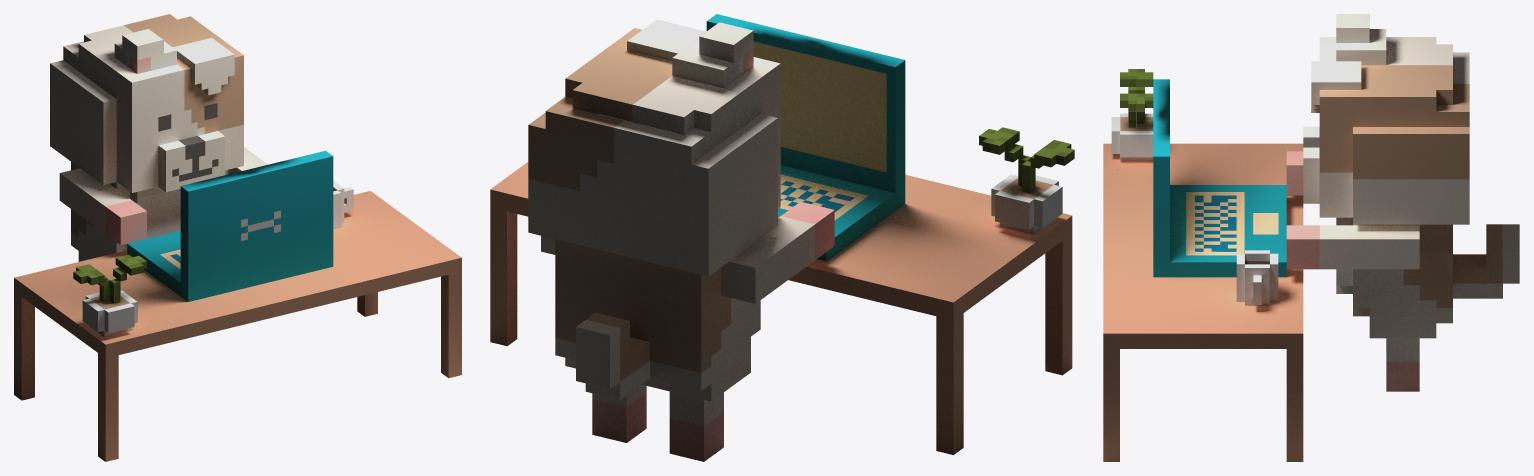
Rendered from dog.glb.
3 views of the same model, side by side, from view 1: azimuth 30°, elevation 25°; view 2: azimuth 150°, elevation 25°; view 3: azimuth 270°, elevation 25° (orthographic). The views are drawn at different scales.
Parts seen in each view (by area): view 1: main; view 2: main; view 3: main.
Boxes of the visible parts, <box> form: main: <box>14,14,461,461</box>; main: <box>490,14,1074,461</box>; main: <box>1103,14,1519,461</box>.
Size of what is drawn, in the model's own units: 5.6 by 4.4 by 5.
Materials: 1 (1 with a texture image).
